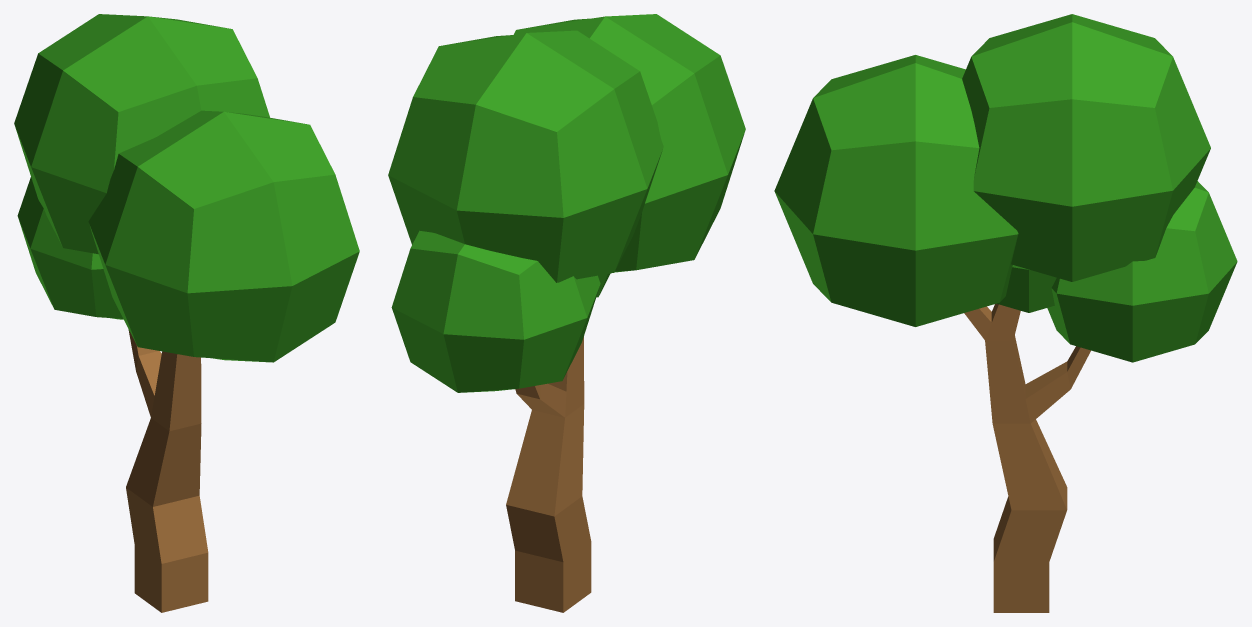
The model's file is tree.fbx.
3 renders of one model, left to right at view 1: azimuth 30°, elevation 25°; view 2: azimuth 150°, elevation 25°; view 3: azimuth 270°, elevation 25°, orthographic. The views are drawn at different scales.
Parts seen in each view (by area): view 1: Cube.056; view 2: Cube.056; view 3: Cube.056.
Part boxes in pixels (bbox=[...]): Cube.056: bbox=[14, 14, 359, 612]; Cube.056: bbox=[388, 14, 745, 612]; Cube.056: bbox=[774, 14, 1237, 612].
Bounding box in the file's own units: 1015 × 2298 × 1665.
